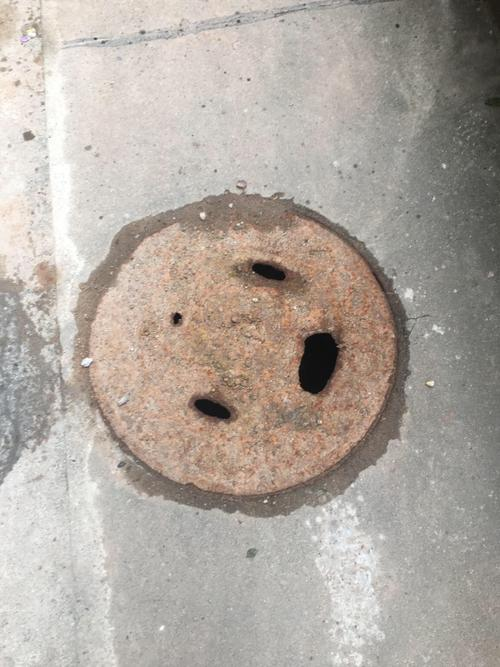broke: (56, 170, 431, 516)
